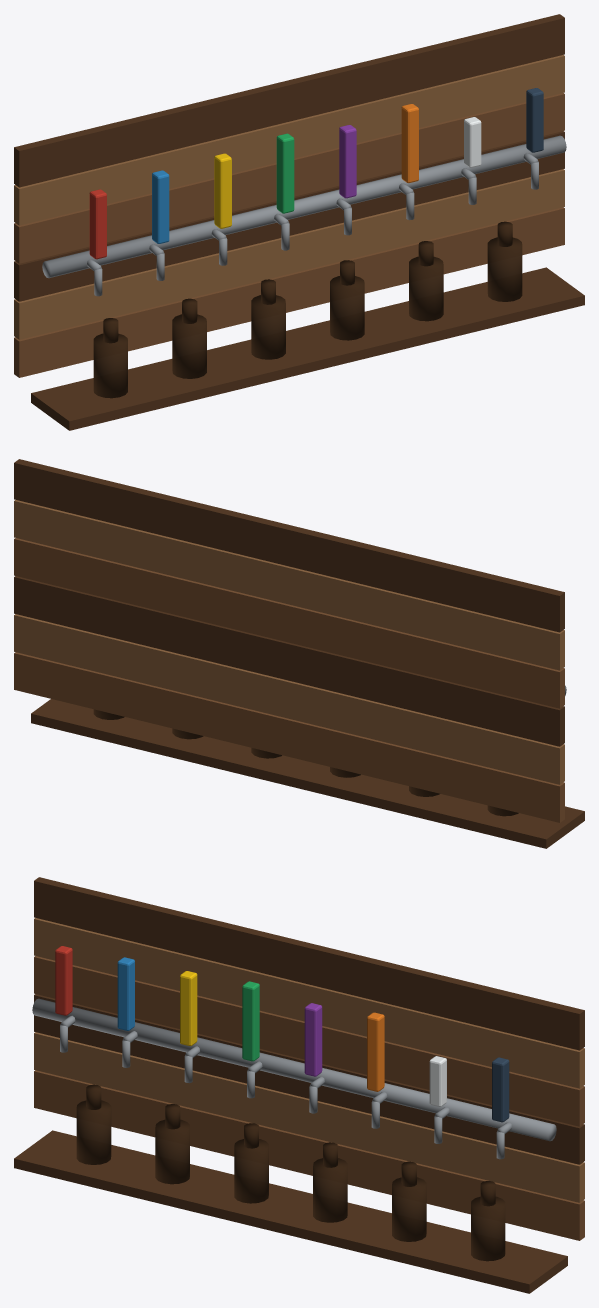
The model's file is taps.glb.
3 views of the same model, one above another, from view 1: azimuth 30°, elevation 25°; view 2: azimuth 150°, elevation 25°; view 3: azimuth 330°, elevation 25° (orthographic).
Parts seen in each view (by area): view 1: panel5, panel1, shelf, panel4, panel3, panel0, panel2, tower, growler.005, growler.004, growler.002, growler (+10 smaller); view 2: panel5, panel0, panel2, panel3, panel1, panel4, shelf; view 3: panel5, panel1, shelf, panel4, panel3, panel0, panel2, tower, growler, growler.001, growler.002, growler.005 (+10 smaller).
Boxes of the visible parts, bbox=[...] form: panel5: bbox=[14, 14, 564, 187]; panel1: bbox=[14, 169, 564, 339]; shelf: bbox=[31, 267, 584, 430]; panel4: bbox=[14, 55, 564, 225]; panel3: bbox=[14, 93, 564, 263]; panel0: bbox=[14, 207, 564, 377]; panel2: bbox=[14, 131, 564, 301]; tower: bbox=[42, 135, 566, 278]; growler.005: bbox=[487, 237, 522, 301]; growler.004: bbox=[409, 256, 443, 321]; growler.002: bbox=[251, 295, 285, 359]; growler: bbox=[93, 333, 127, 398]; panel5: bbox=[14, 459, 564, 632]; panel0: bbox=[14, 652, 564, 822]; panel2: bbox=[14, 576, 564, 746]; panel3: bbox=[14, 538, 564, 708]; panel1: bbox=[14, 614, 564, 784]; panel4: bbox=[14, 500, 564, 670]; shelf: bbox=[31, 699, 584, 848]; panel5: bbox=[34, 877, 584, 1050]; panel1: bbox=[34, 1032, 584, 1202]; shelf: bbox=[14, 1130, 567, 1293]; panel4: bbox=[34, 918, 584, 1088]; panel3: bbox=[34, 956, 584, 1126]; panel0: bbox=[34, 1070, 584, 1240]; panel2: bbox=[34, 994, 584, 1164]; tower: bbox=[32, 998, 556, 1141]; growler: bbox=[76, 1100, 111, 1164]; growler.001: bbox=[155, 1119, 189, 1184]; growler.002: bbox=[234, 1139, 268, 1203]; growler.005: bbox=[471, 1196, 505, 1261].
Bounding box in the file's own units: 1.8 × 0.8125 × 0.23.
